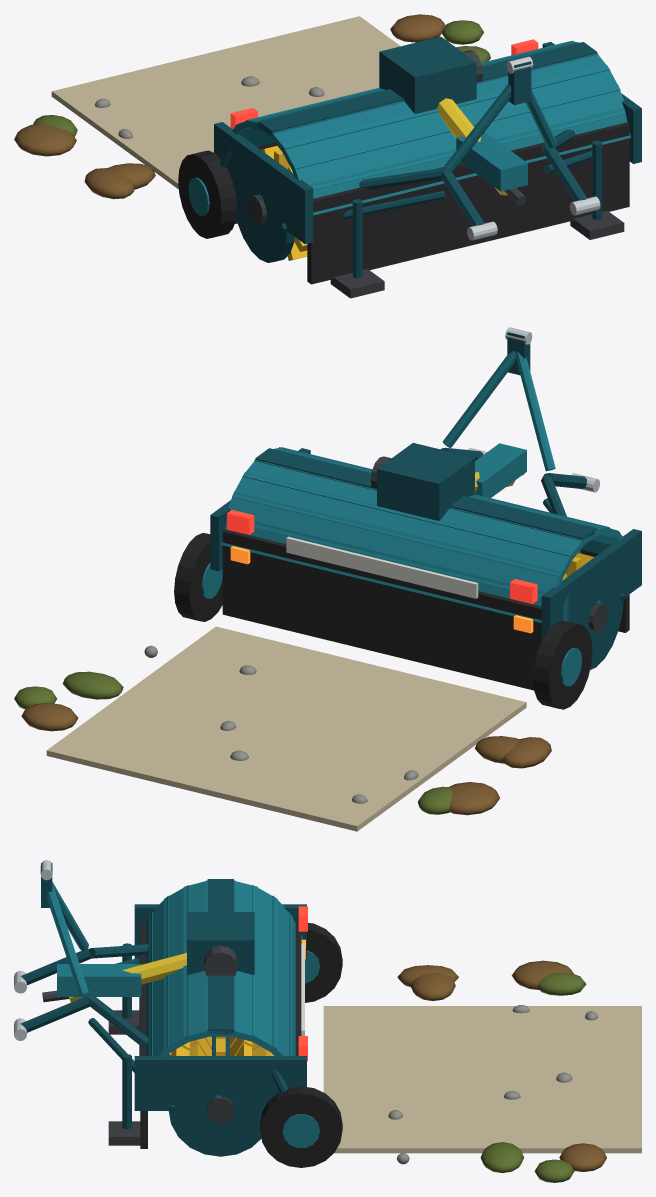
File: rotary_broom.glb
3 renders of one model, top to bottom at view 1: azimuth 30°, elevation 25°; view 2: azimuth 150°, elevation 25°; view 3: azimuth 270°, elevation 25°, orthographic. The views are drawn at different scales.
Visible parts, largest first — view 1: BroomBody, BroomProps, BroomBrush; view 2: BroomBody, BroomProps; view 3: BroomBody, BroomProps, BroomBrush.
Boxes of the visible parts, left/top/right/bottom form: BroomBody: left=178, top=36, right=641, bottom=298; BroomProps: left=14, top=14, right=490, bottom=199; BroomBrush: left=261, top=146, right=307, bottom=260; BroomBody: left=174, top=327, right=641, bottom=709; BroomProps: left=14, top=626, right=551, bottom=831; BroomBody: left=14, top=860, right=342, bottom=1167; BroomProps: left=323, top=960, right=641, bottom=1182; BroomBrush: left=169, top=1036, right=273, bottom=1055.
Bounding box in the file's own units: 2.74 × 1.28 × 3.36.
